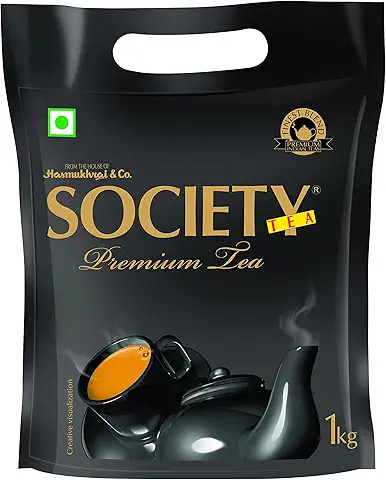Tea: (2, 5, 380, 480)
